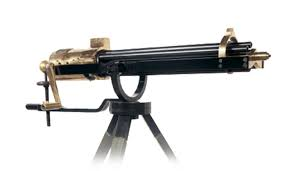gun: (24, 29, 273, 125)
